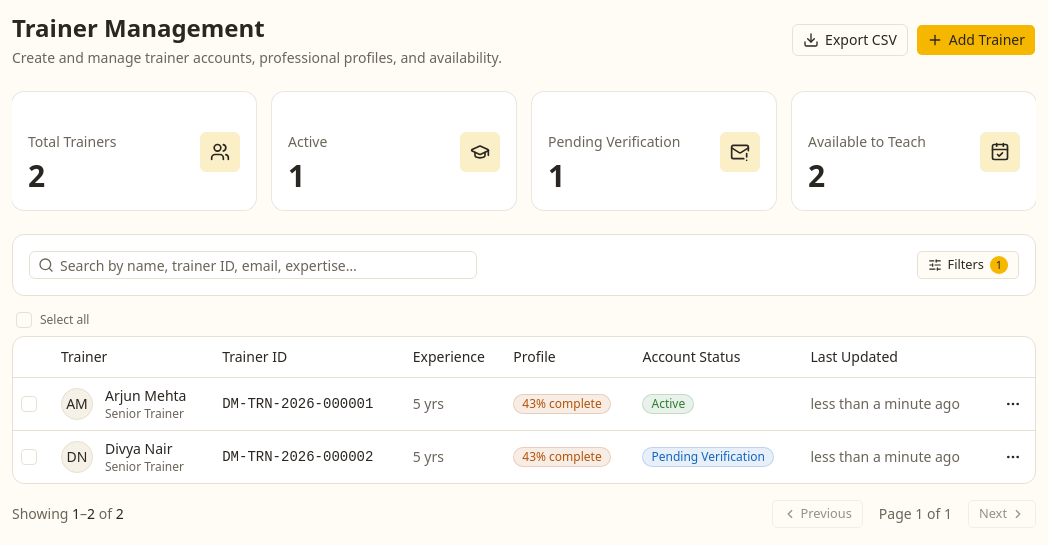
TrainersPage › filters the table by search
Expected: the text "Arjun Mehta" is shown, [105, 386, 186, 406]
Type "Divya" into the field with placeholder "Search by name, trainer ID, email, expertise…" at point(265, 265), box [54, 249, 476, 281]
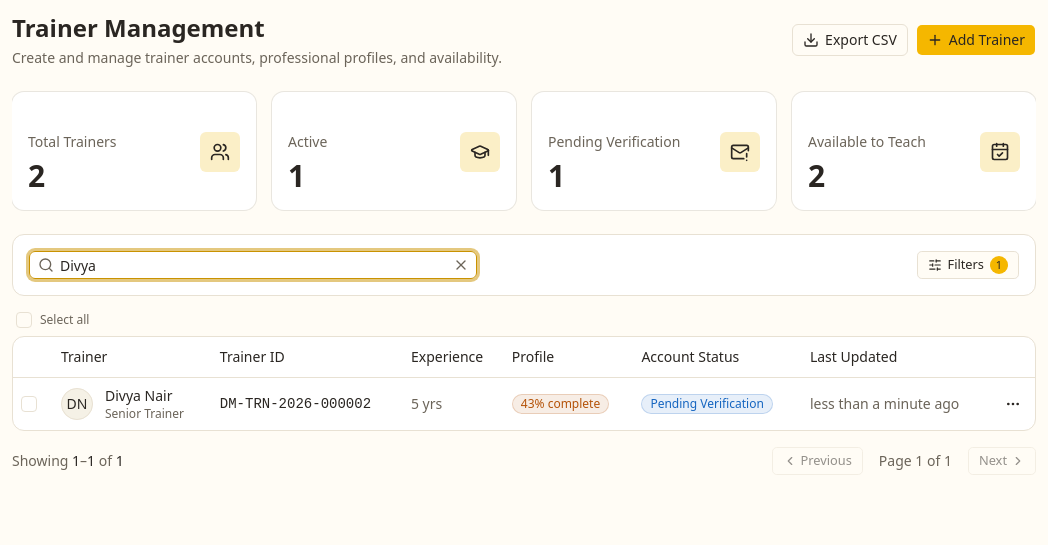
Expected: the text "Divya Nair" is shown, [105, 386, 184, 406]
Now the button "Arjun Mehta" is gone
